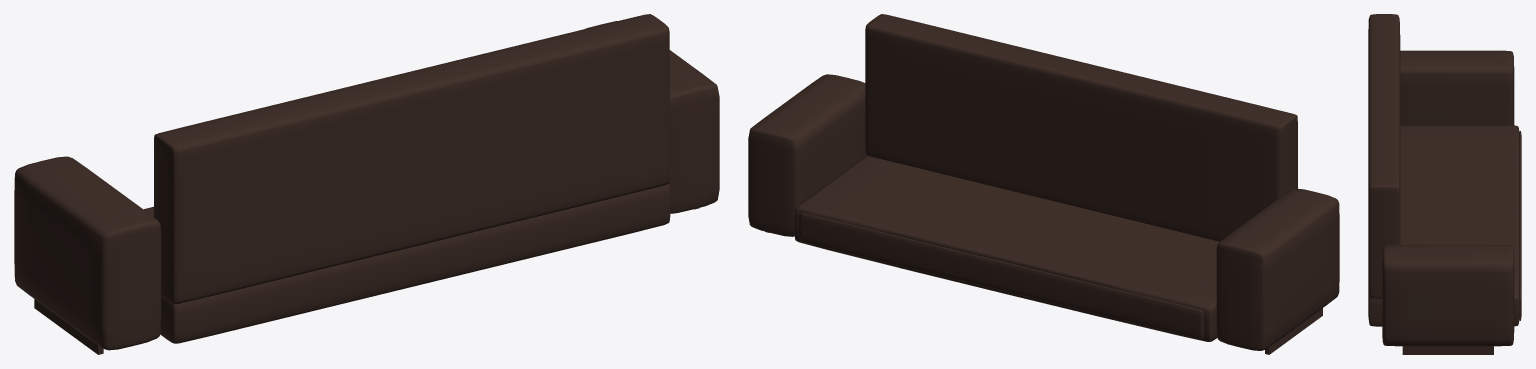
Rendered from sofa.dae.
The picture shows the model from 3 angles, left to right: view 1: azimuth 30°, elevation 25°; view 2: azimuth 150°, elevation 25°; view 3: azimuth 270°, elevation 25°; orthographic projection. The views are drawn at different scales.
Visible parts, largest first — view 1: sofa; view 2: sofa; view 3: sofa.
Part boxes in pixels (<box>): sofa: <box>14,14,719,354</box>; sofa: <box>748,14,1339,354</box>; sofa: <box>1368,14,1521,354</box>.
Bounding box in the file's own units: 1.7 × 0.5117 × 0.5545.
